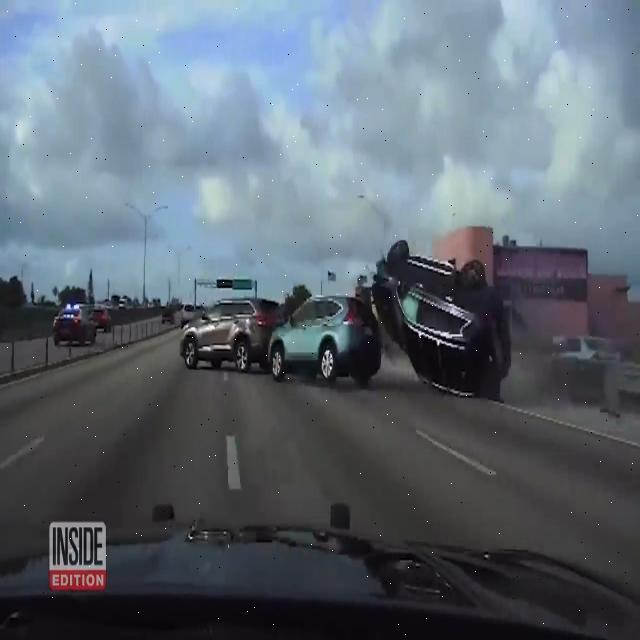accident: (371, 235, 517, 411)
